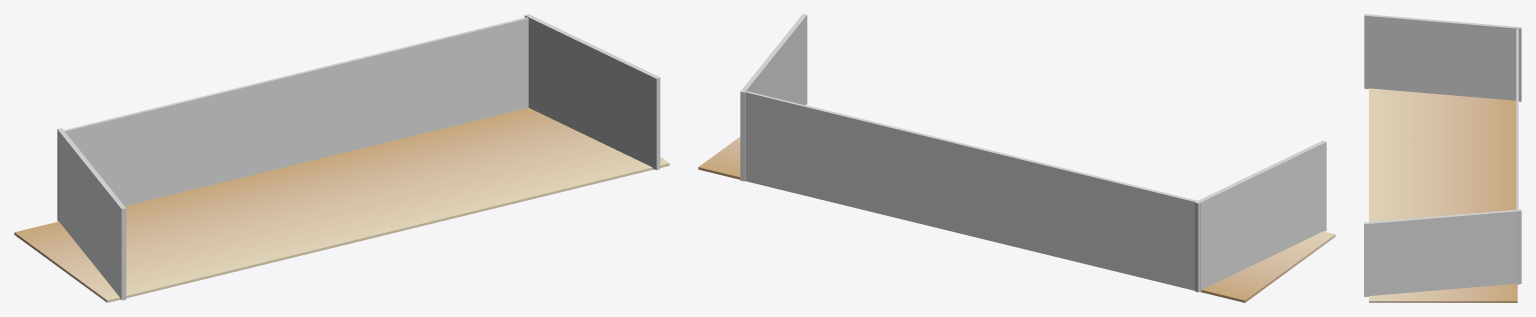
The model's file is FBX_Blockout.fbx.
3 renders of one model, left to right at view 1: azimuth 30°, elevation 25°; view 2: azimuth 150°, elevation 25°; view 3: azimuth 270°, elevation 25°, orthographic. The views are drawn at different scales.
Visible parts, largest first — view 1: Cube, Cube.001, Cube.002; view 2: Cube.001, Cube.002, Cube; view 3: Cube.002, Cube, Cube.001.
Boxes of the visible parts, x1=… form: Cube: x1=14, y1=108, x2=669, y2=302; Cube.001: x1=58, y1=17, x2=528, y2=221; Cube.002: x1=57, y1=14, x2=660, y2=300; Cube.001: x1=745, y1=91, x2=1201, y2=292; Cube.002: x1=740, y1=14, x2=1326, y2=292; Cube: x1=698, y1=105, x2=1335, y2=302; Cube.002: x1=1364, y1=14, x2=1521, y2=297; Cube: x1=1369, y1=88, x2=1517, y2=302; Cube.001: x1=1516, y1=29, x2=1518, y2=284.
Size of the model in its own units: 1048 by 165 by 318.
2 materials, 1 textured.
